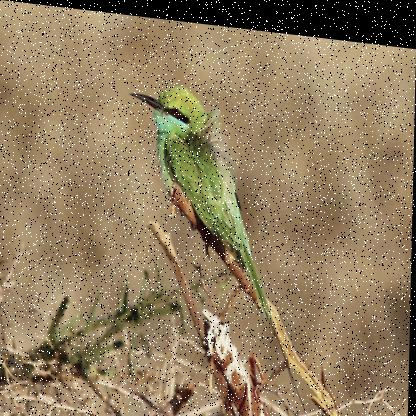Burung: (123, 76, 315, 409)
